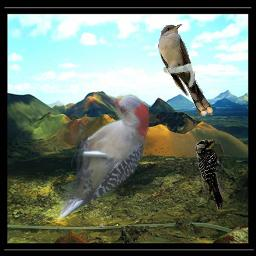Cuckoo: (158, 24, 213, 116)
Woodpecker: (55, 92, 149, 222), (195, 139, 230, 211)
